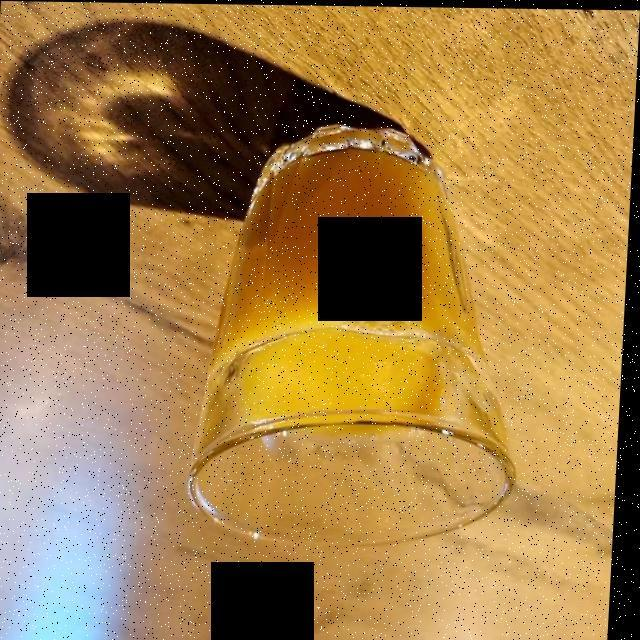juice: (215, 142, 490, 435)
